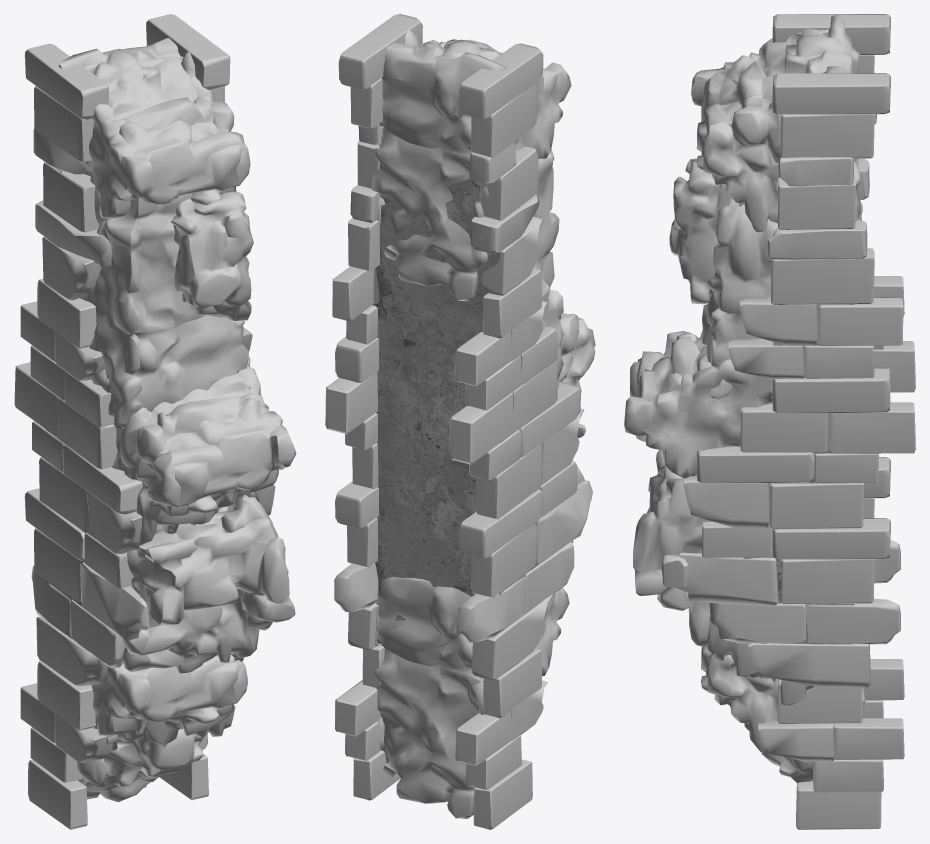
File: SM_Wall_8x8_Broken_01g.fbx
The picture shows the model from 3 angles, left to right: view 1: azimuth 30°, elevation 25°; view 2: azimuth 150°, elevation 25°; view 3: azimuth 270°, elevation 25°; orthographic projection.
Parts seen in each view (by area): view 1: SM_Wall_8x8_Broken_01g_LOD0; view 2: SM_Wall_8x8_Broken_01g_LOD0; view 3: SM_Wall_8x8_Broken_01g_LOD0.
Boxes of the visible parts, x1,y1,x2,y2 form: SM_Wall_8x8_Broken_01g_LOD0: (14,14,296,829); SM_Wall_8x8_Broken_01g_LOD0: (325,14,595,829); SM_Wall_8x8_Broken_01g_LOD0: (624,14,915,829).
Size of the model in its own units: 224 by 354 by 1016.
